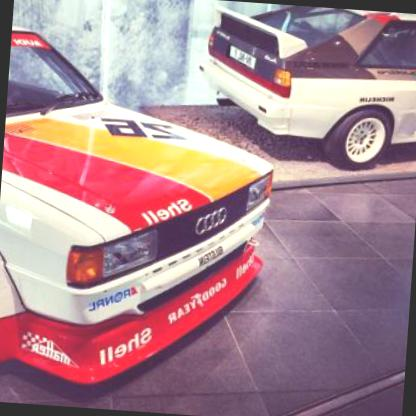car: (0, 19, 283, 398), (194, 0, 415, 176)
